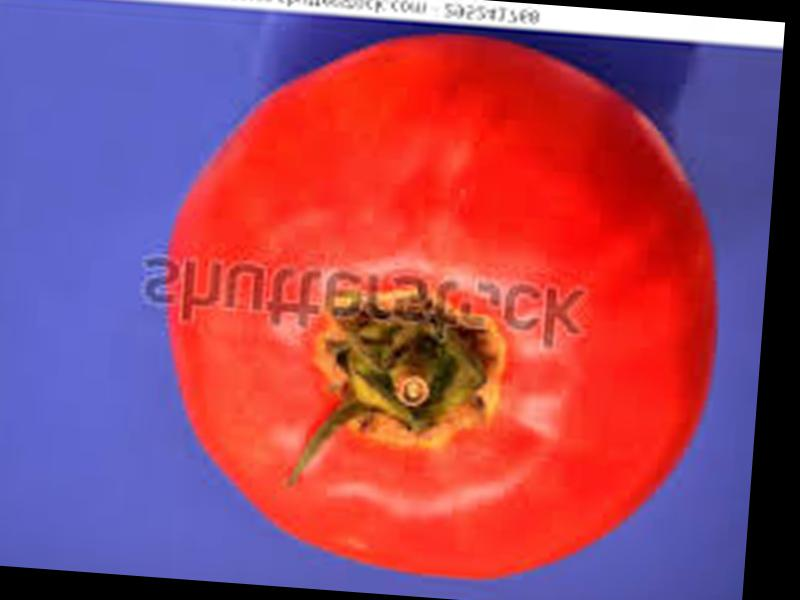Tomato: (145, 25, 738, 596)
